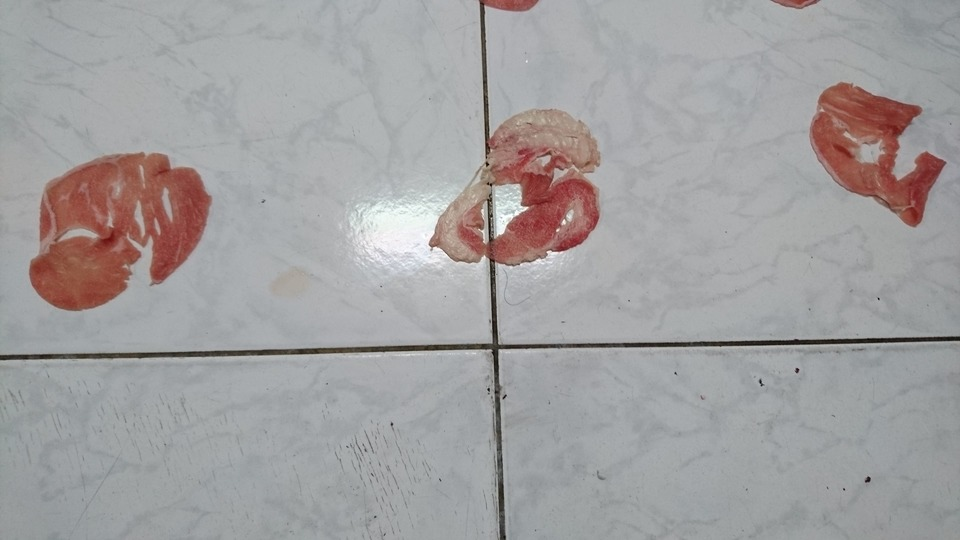restructured meat: (31, 140, 220, 315), (428, 109, 602, 267), (807, 78, 946, 228)
